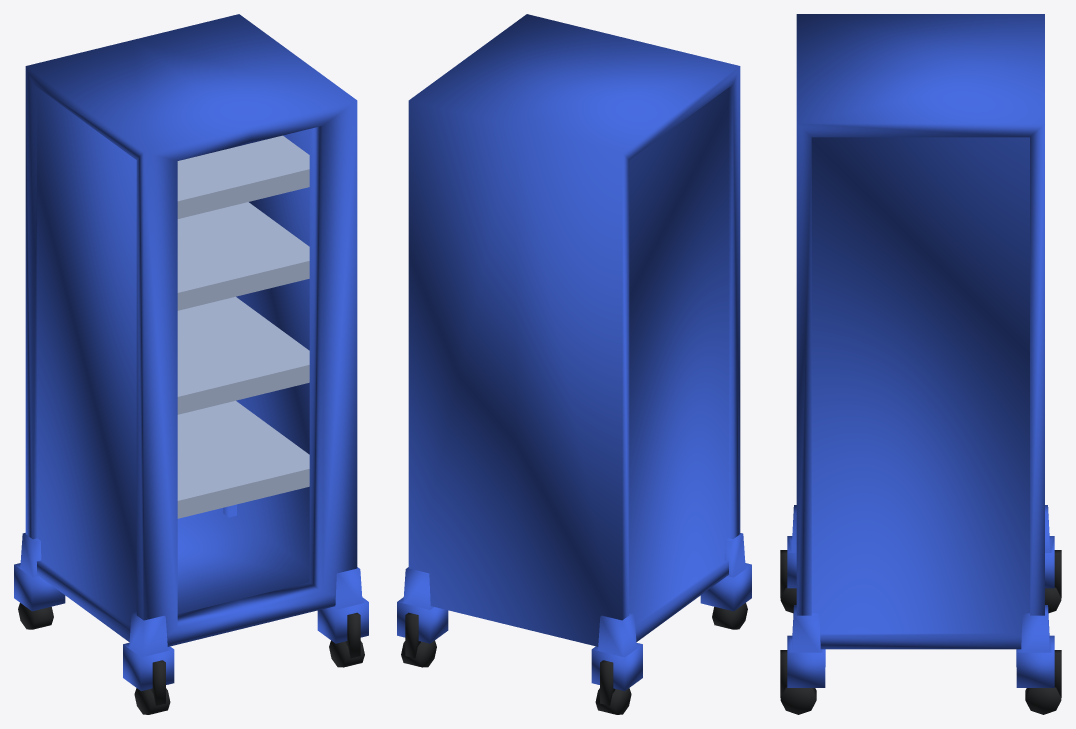
The model's file is EstanteRemedios.fbx.
3 views of the same model, side by side, from view 1: azimuth 30°, elevation 25°; view 2: azimuth 150°, elevation 25°; view 3: azimuth 270°, elevation 25° (orthographic). The views are drawn at different scales.
Parts seen in each view (by area): view 1: EstanteRemedios; view 2: EstanteRemedios; view 3: EstanteRemedios.
Boxes of the visible parts, x1=… form: EstanteRemedios: x1=14, y1=14, x2=368, y2=714; EstanteRemedios: x1=397, y1=14, x2=751, y2=714; EstanteRemedios: x1=780, y1=14, x2=1061, y2=714.
Size of the model in its own units: 73.98 by 175 by 75.22.
Materials: 1 (1 with a texture image).
